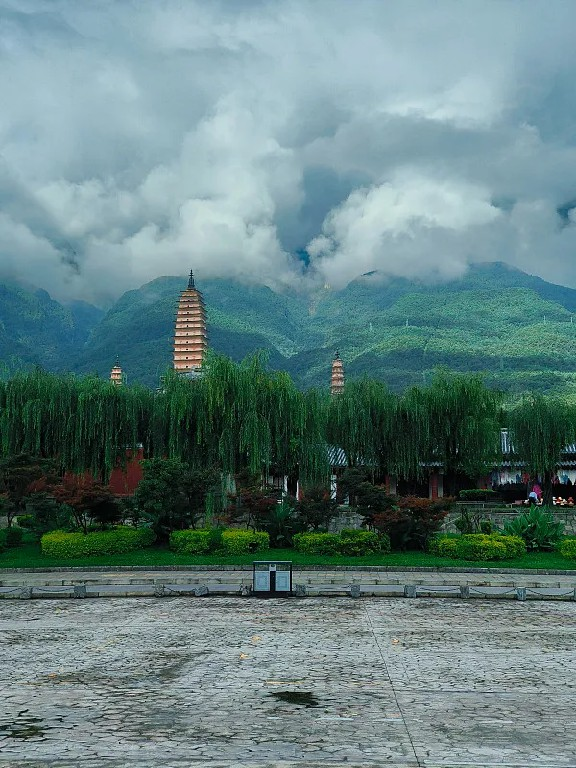ThreePagoda: (170, 270, 209, 375)
